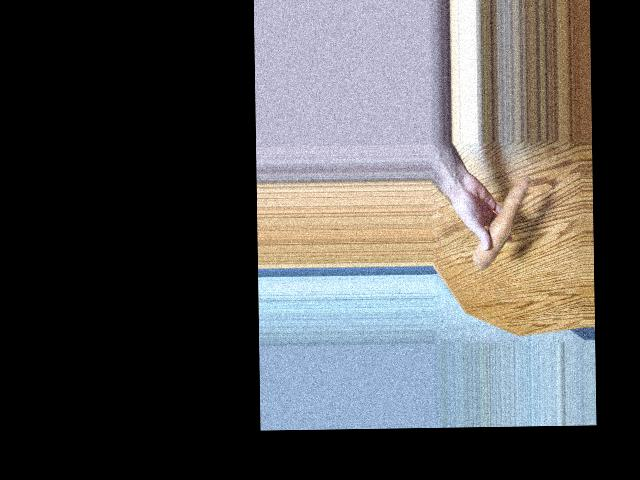sweet_potato: (474, 177, 525, 279)
